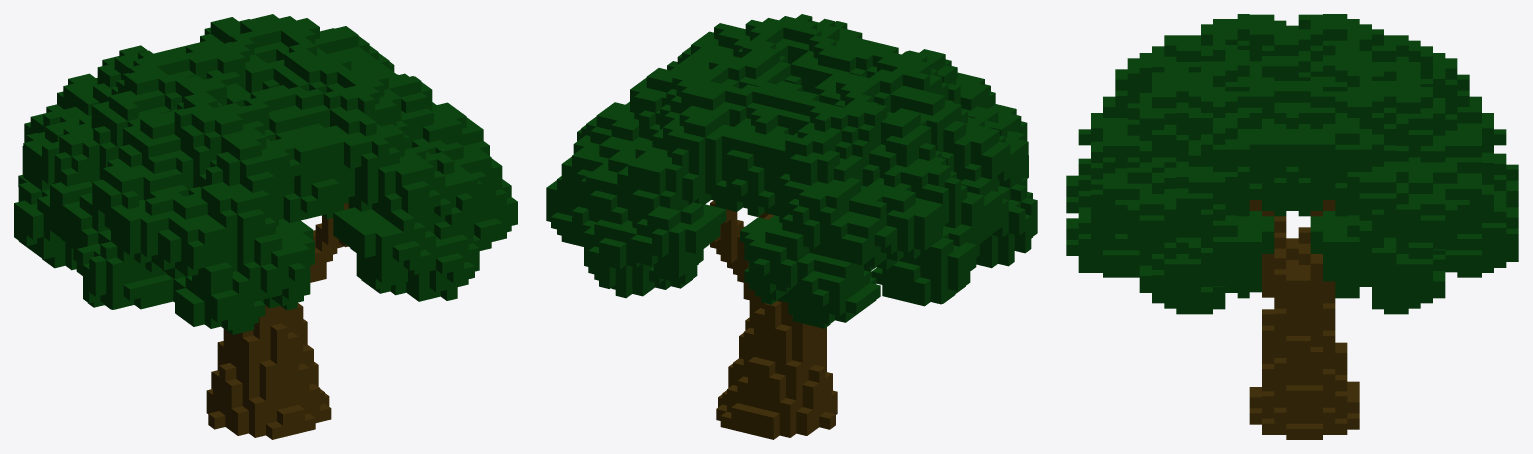
File: TreeLOD-0-Tree2_0.obj
3 renders of one model, left to right at view 1: azimuth 30°, elevation 25°; view 2: azimuth 150°, elevation 25°; view 3: azimuth 270°, elevation 25°, orthographic. The views are drawn at different scales.
Parts seen in each view (by area): view 1: Tree2_0; view 2: Tree2_0; view 3: Tree2_0.
Boxes of the visible parts, x1,y1,x2,y2 form: Tree2_0: (14, 14, 517, 439); Tree2_0: (546, 14, 1037, 439); Tree2_0: (1066, 14, 1518, 439).
Bounding box in the file's own units: 3.6 × 3.1 × 3.7.
1 material, 1 textured.
